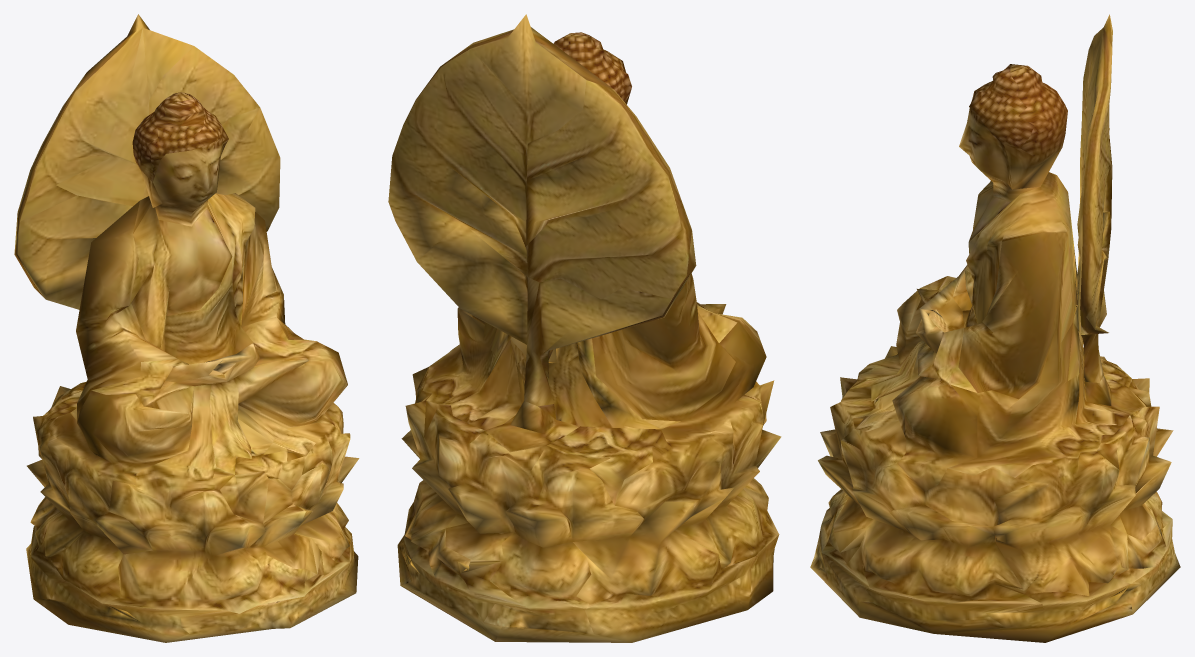
Rendered from far.glb.
3 views of the same model, side by side, from view 1: azimuth 30°, elevation 25°; view 2: azimuth 150°, elevation 25°; view 3: azimuth 270°, elevation 25° (orthographic). The views are drawn at different scales.
Visible parts, largest first — view 1: four-heavenly-kings-01; view 2: four-heavenly-kings-01; view 3: four-heavenly-kings-01.
Boxes of the visible parts, left/top/right/bottom form: four-heavenly-kings-01: left=14, top=14, right=359, bottom=642; four-heavenly-kings-01: left=388, top=14, right=781, bottom=642; four-heavenly-kings-01: left=810, top=14, right=1180, bottom=642.
Bounding box in the file's own units: 0.5691 × 0.9823 × 0.5925.
Materials: 1 (1 with a texture image).
